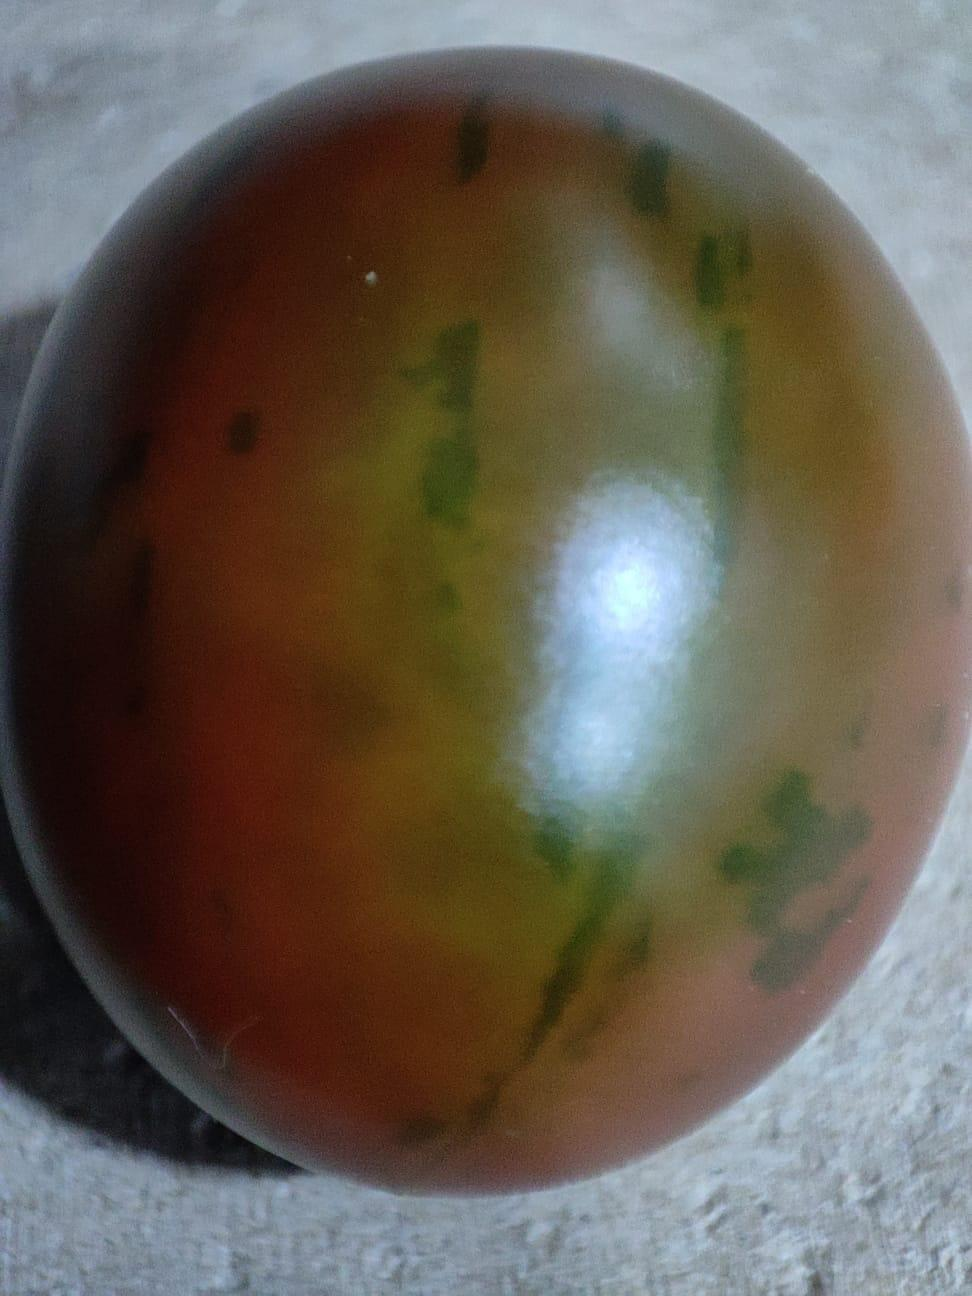Tomate Rugoso: (2, 46, 968, 1194)
